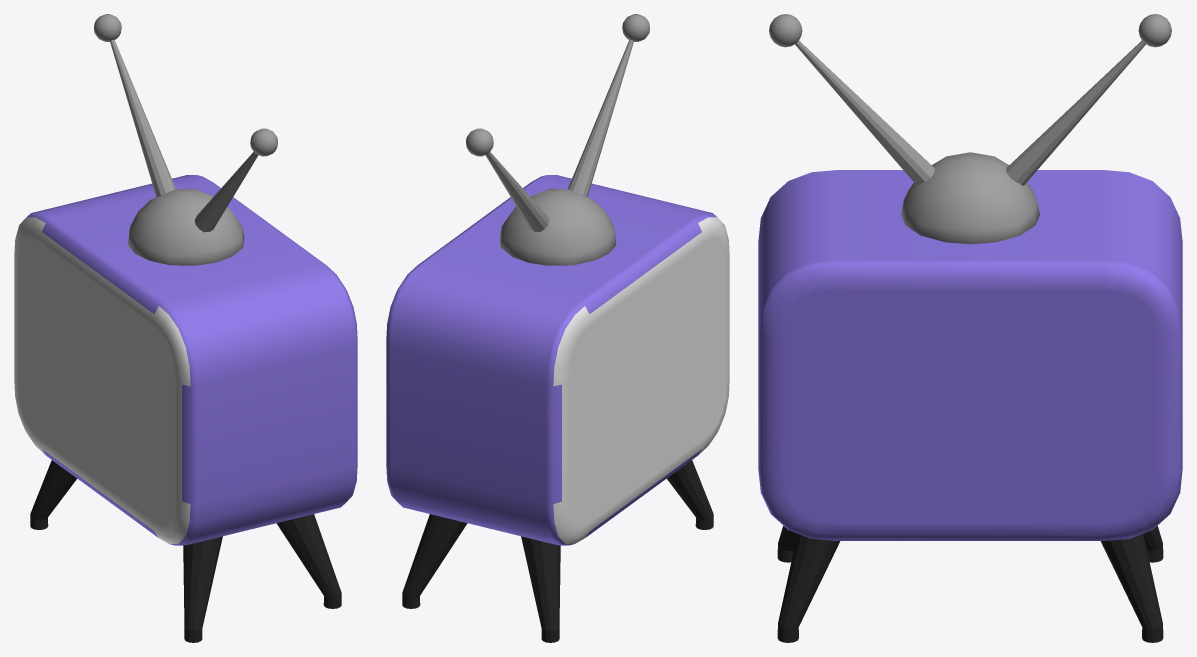
The picture shows the model from 3 angles, left to right: view 1: azimuth 30°, elevation 25°; view 2: azimuth 150°, elevation 25°; view 3: azimuth 270°, elevation 25°; orthographic projection. The views are drawn at different scales.
Parts seen in each view (by area): view 1: Plane.009, Vert.001, Roundcube.001, Vert.002, Roundcube.002; view 2: Plane.009, Vert.001, Roundcube.001, Vert.002, Roundcube.002; view 3: Plane.009, Roundcube.001, Vert.001, Vert.002, Roundcube.002.
Part boxes in pixels (<box>): Plane.009: <box>14,175,357,545</box>; Vert.001: <box>30,460,341,642</box>; Roundcube.001: <box>127,188,244,265</box>; Vert.002: <box>110,39,258,232</box>; Roundcube.002: <box>94,14,277,156</box>; Plane.009: <box>386,175,729,545</box>; Vert.001: <box>402,460,713,642</box>; Roundcube.001: <box>499,188,616,265</box>; Vert.002: <box>485,39,633,231</box>; Roundcube.002: <box>466,14,649,156</box>; Plane.009: <box>758,170,1182,540</box>; Roundcube.001: <box>901,152,1039,244</box>; Vert.001: <box>777,526,1163,642</box>; Vert.002: <box>795,40,1145,185</box>; Roundcube.002: <box>769,14,1171,47</box>.
Size of the model in its own units: 99.34 by 262 by 173.
